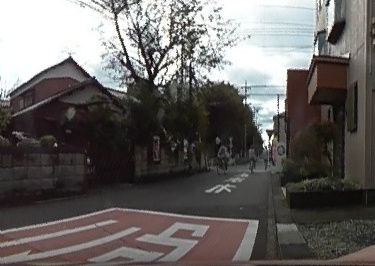person: (246, 144, 256, 172), (217, 142, 227, 167)
